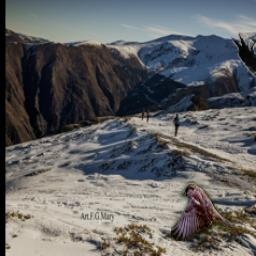Crow: (230, 34, 256, 88)
Sparrow: (172, 181, 233, 241)
